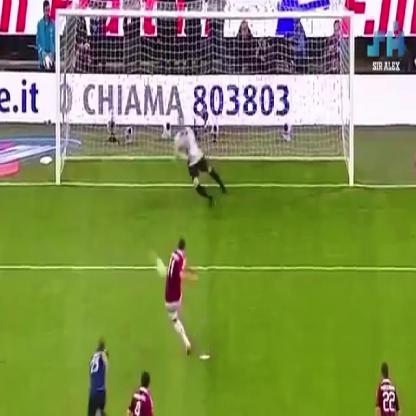penalty kick: (125, 1, 235, 365)
